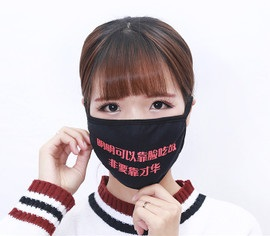face_mask: (87, 59, 187, 176)
